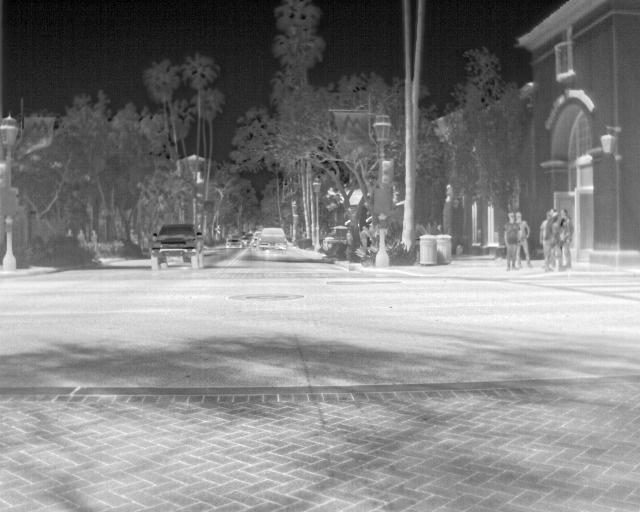bicycle: (148, 224, 204, 273), (255, 226, 290, 252), (223, 235, 242, 250)
empty: (543, 212, 562, 271), (557, 208, 574, 273), (516, 213, 534, 264), (501, 212, 517, 268), (538, 210, 555, 244), (358, 224, 373, 248), (86, 224, 98, 252), (76, 227, 88, 248)
